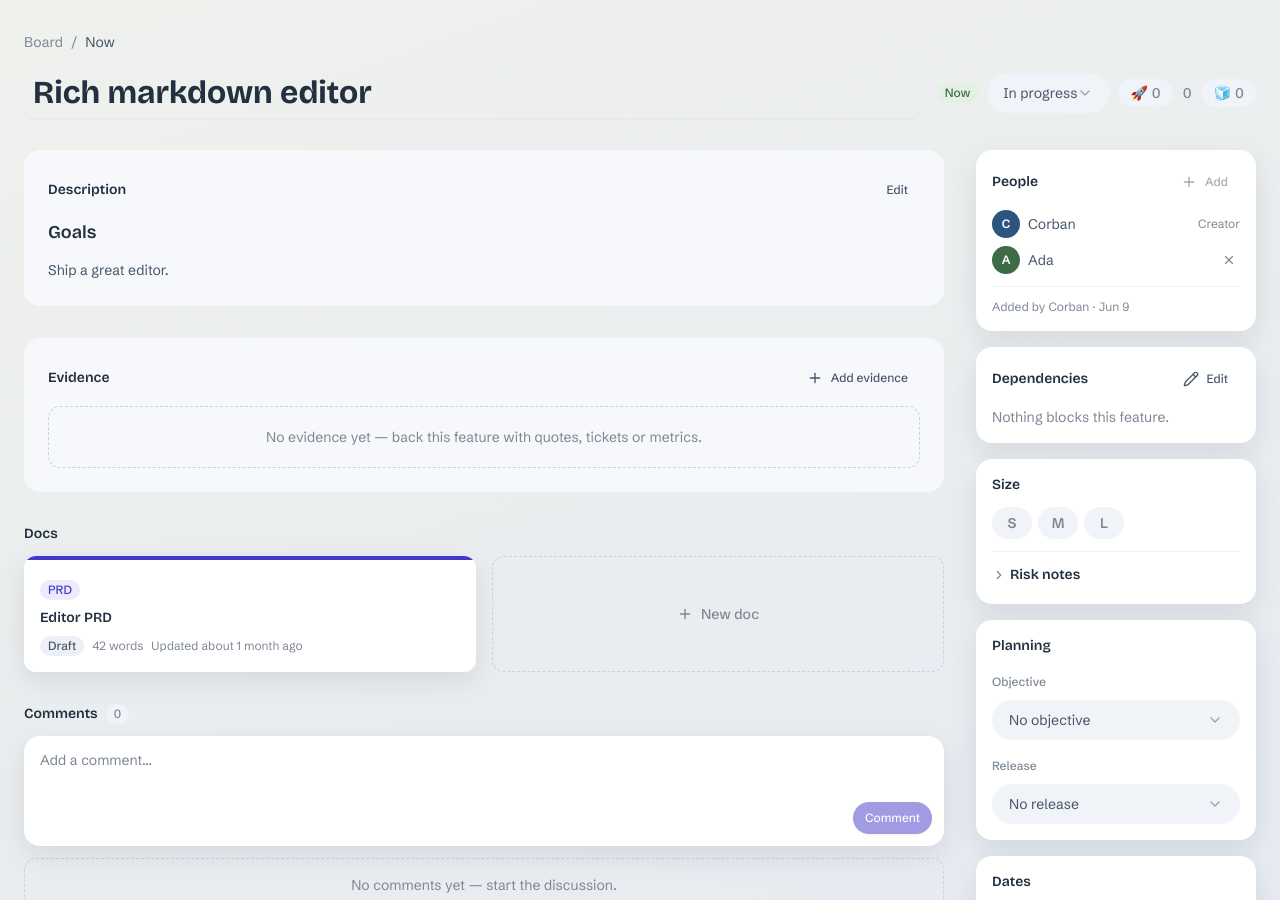
Test: FeaturePage › docs grid shows type/status, word count and a dashed New doc card
This screenshot has width=1280, height=900.
Expected: the text "Editor PRD" is shown, [40,609,112,626]
Expected: the text "PRD" is shown, [40,580,80,600]
Note: dashed + New doc card opens the dialog
Click the button "New doc": (718, 614) [492,556,944,672]
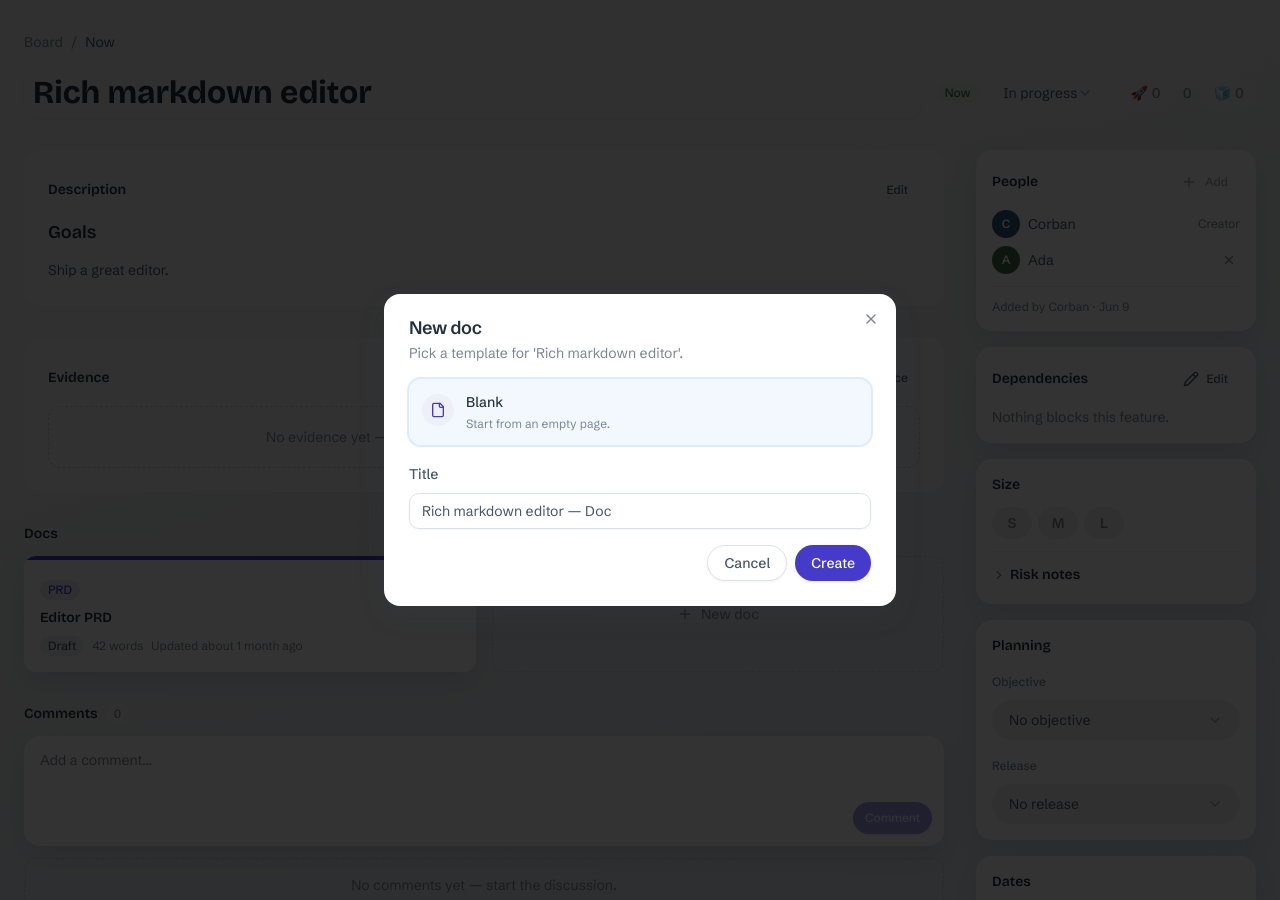
Expected: the dialog "New doc" is shown, [384,294,896,606]
